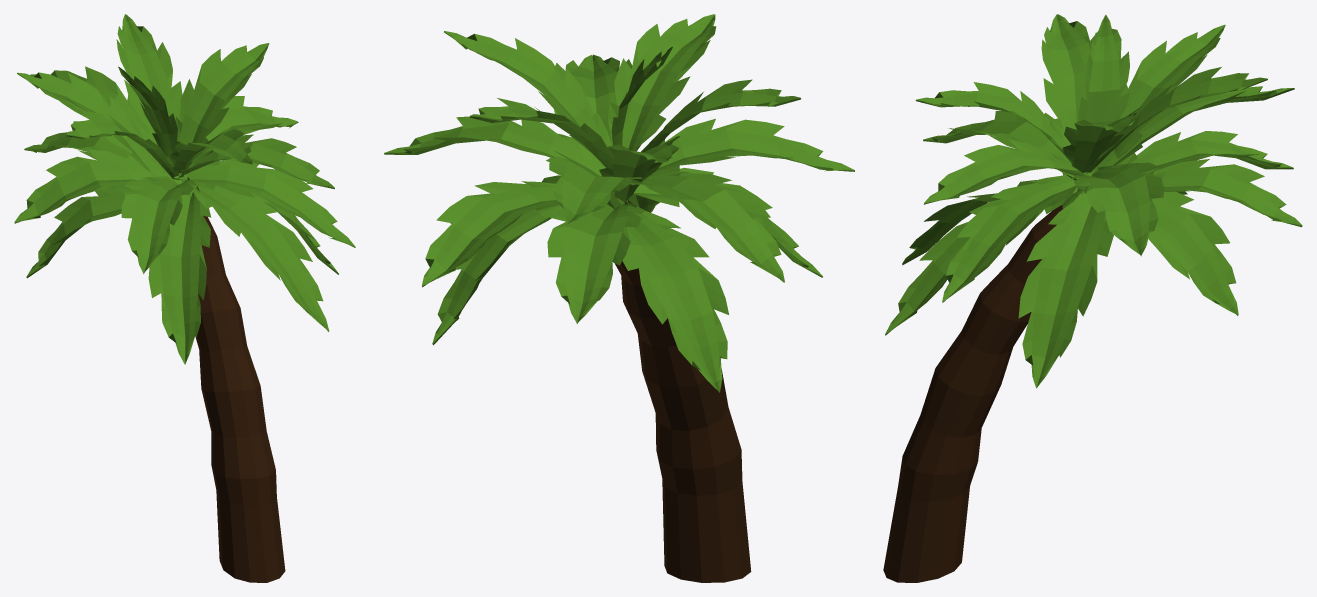
3 views of the same model, side by side, from view 1: azimuth 30°, elevation 25°; view 2: azimuth 150°, elevation 25°; view 3: azimuth 270°, elevation 25° (orthographic). The views are drawn at different scales.
Parts seen in each view (by area): view 1: Large Tree; view 2: Large Tree; view 3: Large Tree.
Part boxes in pixels (x1,y1,x2,y2): Large Tree: (14, 14, 355, 582); Large Tree: (384, 14, 854, 582); Large Tree: (883, 14, 1302, 582).
Bounding box in the file's own units: 1.78 × 2.7 × 1.95.
